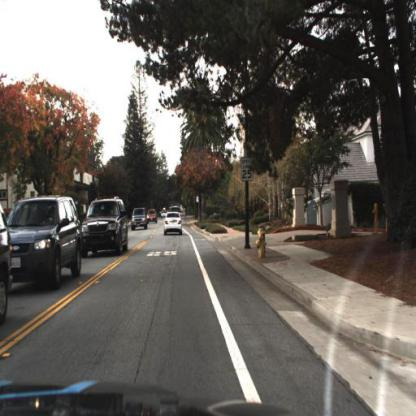car: (4, 193, 84, 291), (80, 194, 128, 258), (163, 210, 182, 237), (130, 204, 148, 232)
